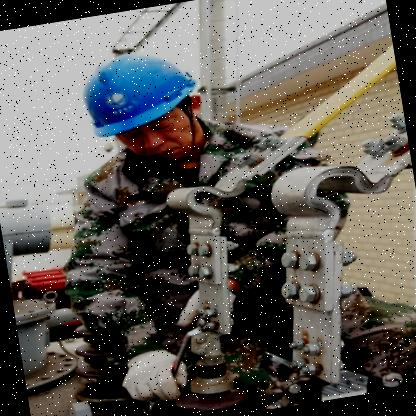capacete: (69, 39, 222, 174)
sem_colete_refletivo: (41, 117, 350, 353)
